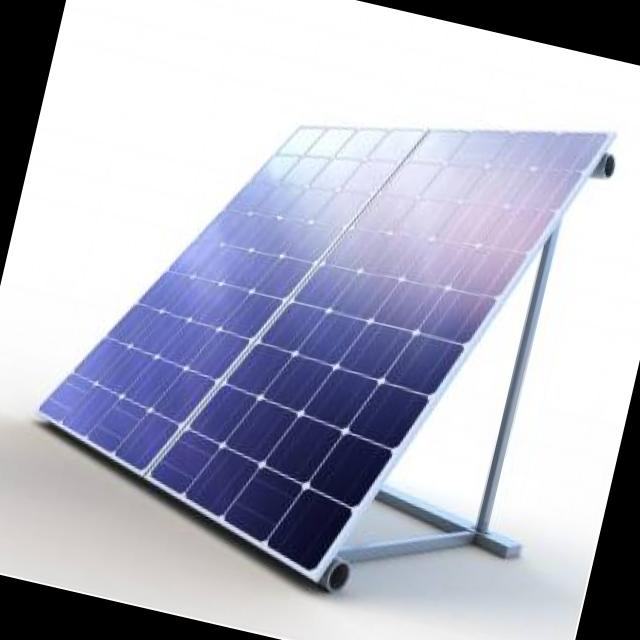no faulty: (44, 137, 595, 564)
